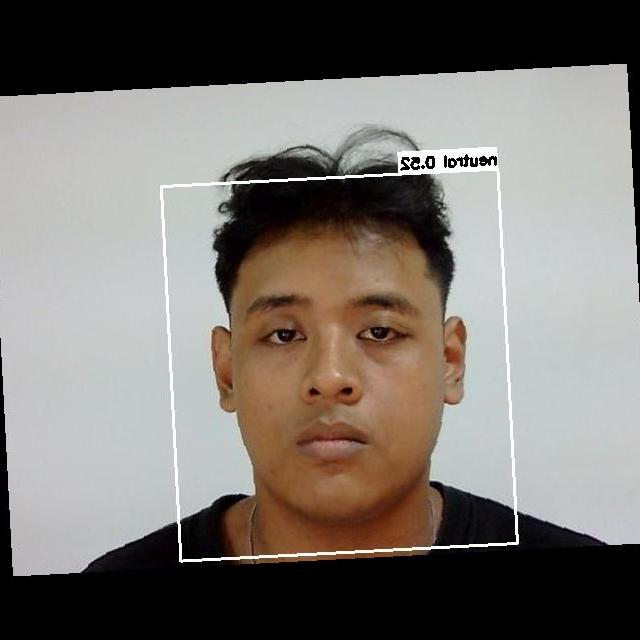Natural: (220, 255, 443, 481)
